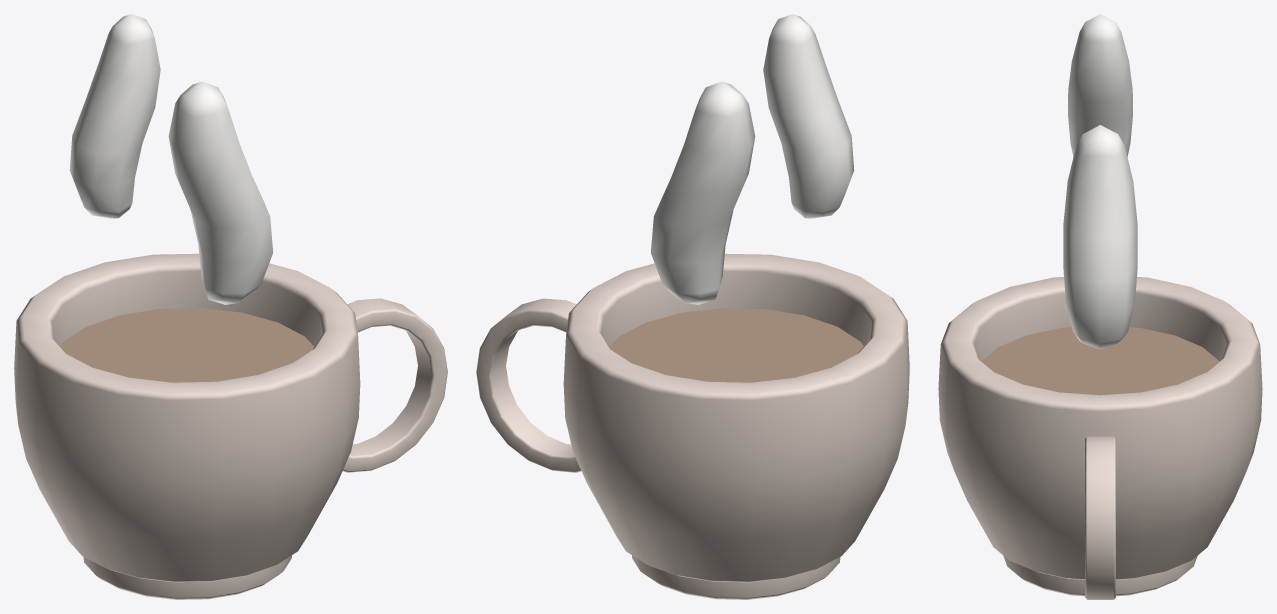
The model's file is Cup_2.glb.
The picture shows the model from 3 angles, left to right: view 1: azimuth 30°, elevation 25°; view 2: azimuth 150°, elevation 25°; view 3: azimuth 270°, elevation 25°; orthographic projection. The views are drawn at different scales.
Visible parts, largest first — view 1: Cup_2; view 2: Cup_2; view 3: Cup_2.
Boxes of the visible parts, x1=… form: Cup_2: x1=14, y1=14, x2=447, y2=599; Cup_2: x1=476, y1=14, x2=909, y2=599; Cup_2: x1=938, y1=14, x2=1262, y2=599.
Bounding box in the file's own units: 0.2613 × 0.3442 × 0.1949.
1 material, 1 textured.
